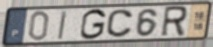0: (27, 10, 51, 42)
6: (136, 7, 161, 38)
C: (105, 8, 134, 38)
G: (79, 8, 108, 41)
I: (56, 10, 69, 41)
R: (159, 5, 189, 39)
